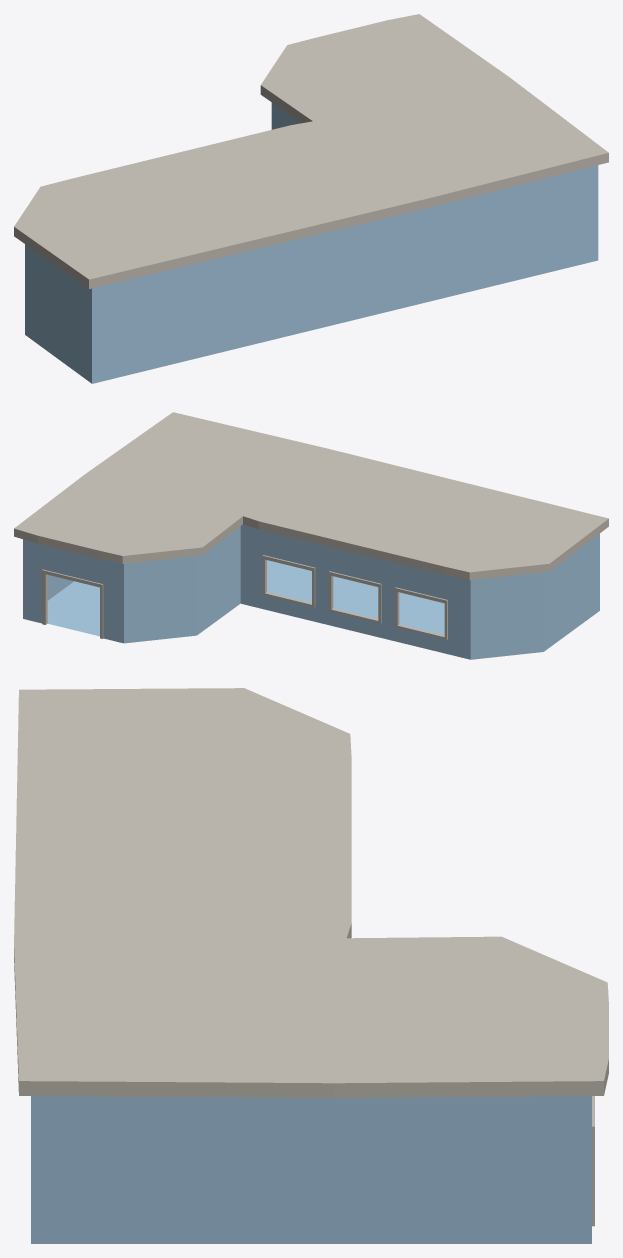
File: Bld_R_med_L4_A.fbx
3 views of the same model, one above another, from view 1: azimuth 30°, elevation 25°; view 2: azimuth 150°, elevation 25°; view 3: azimuth 270°, elevation 25° (orthographic). The views are drawn at different scales.
Visible parts, largest first — view 1: Bld_R_med_L4_A_LOD0; view 2: Bld_R_med_L4_A_LOD0; view 3: Bld_R_med_L4_A_LOD0.
Boxes of the visible parts, x1=… form: Bld_R_med_L4_A_LOD0: x1=14, y1=14, x2=608, y2=383; Bld_R_med_L4_A_LOD0: x1=14, y1=412, x2=608, y2=659; Bld_R_med_L4_A_LOD0: x1=14, y1=688, x2=608, y2=1243.
Size of what is drawn, in the model's own units: 2200 by 746 by 1400.
1 material, 1 textured.
